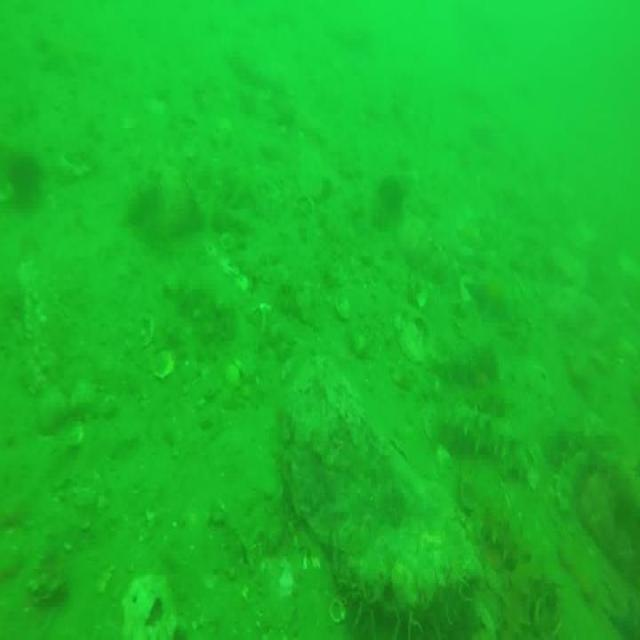echinus: (7, 155, 43, 207), (377, 172, 406, 226)
holothurian: (447, 401, 516, 471), (469, 506, 528, 574)
scallop: (147, 349, 174, 381), (406, 269, 428, 308), (134, 310, 152, 343), (224, 359, 244, 387), (329, 599, 347, 624), (334, 296, 350, 322), (205, 240, 216, 254)
